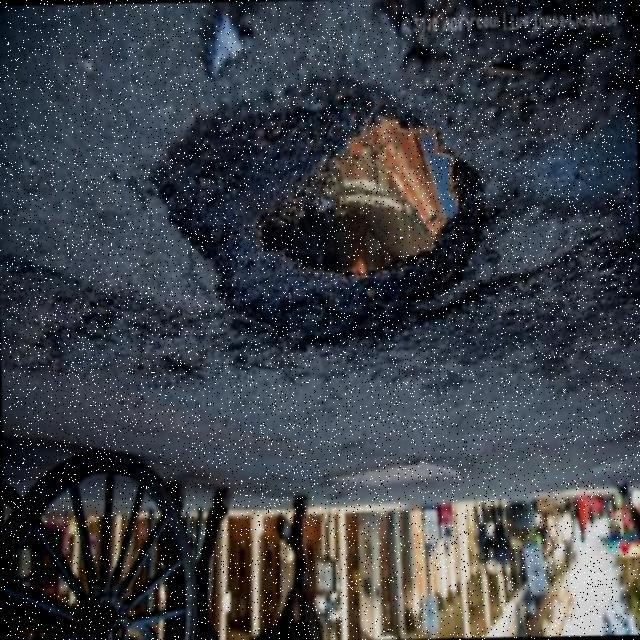Pothole: (156, 78, 481, 352)
